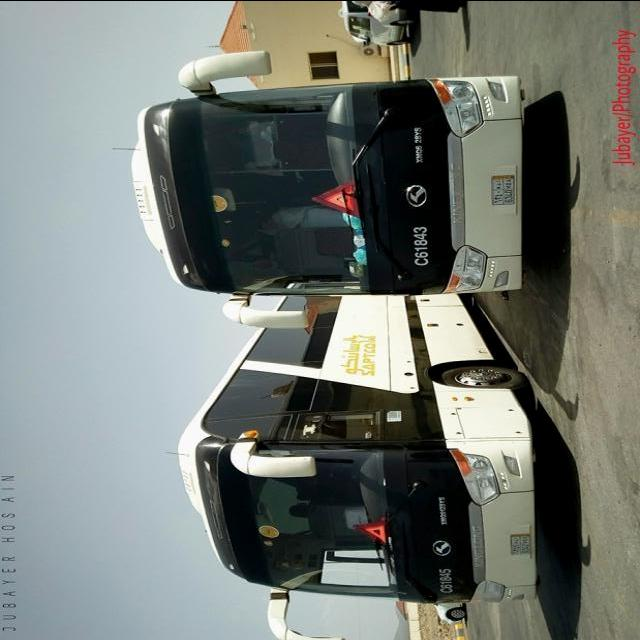bus: (178, 295, 539, 640), (132, 50, 527, 329)
